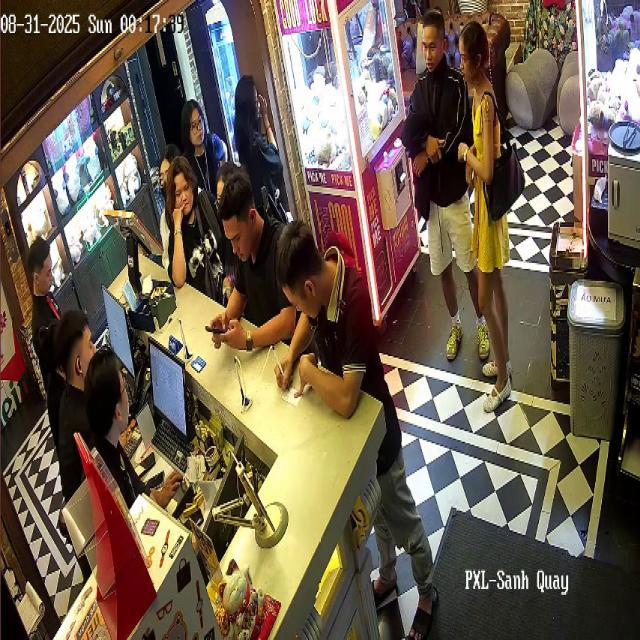khach: (273, 210, 431, 624), (456, 17, 519, 414), (407, 16, 473, 367), (215, 178, 296, 350), (166, 160, 220, 288), (232, 66, 290, 185), (178, 88, 226, 159), (152, 145, 174, 261)
nhan vien: (85, 351, 160, 524), (56, 305, 94, 472), (28, 224, 67, 352), (38, 312, 66, 388)
